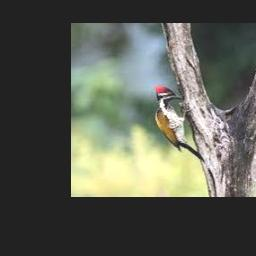Woodpecker: (155, 86, 205, 161)
